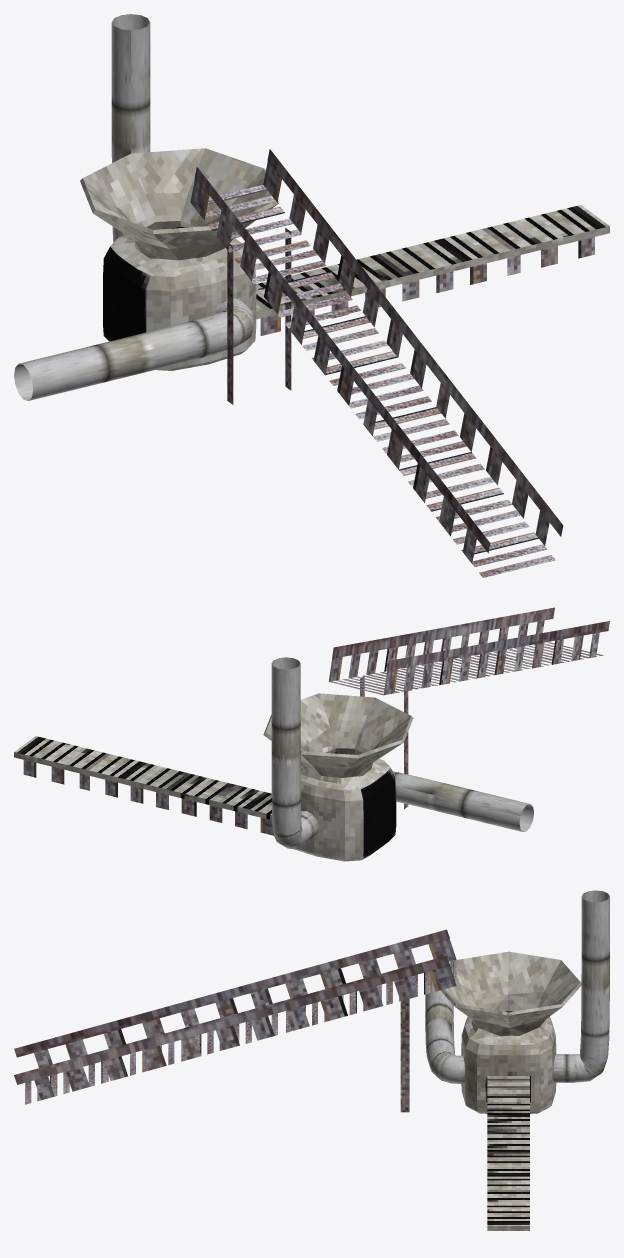
File: maquinaria.fbx
3 views of the same model, one above another, from view 1: azimuth 30°, elevation 25°; view 2: azimuth 150°, elevation 25°; view 3: azimuth 270°, elevation 25° (orthographic). The views are drawn at different scales.
Parts seen in each view (by area): view 1: Cube, Cube.004, Plane.001, Plane.003; view 2: Cube, Cube.004, Plane.001, Plane.003; view 3: Cube.004, Cube, Plane.001.
Part boxes in pixels (box(x1,y1,x2,y2)): Cube: box(80, 148, 609, 370); Cube.004: box(190, 149, 563, 577); Plane.001: box(14, 14, 254, 400); Plane.003: box(260, 237, 594, 335); Cube: box(14, 693, 413, 861); Cube.004: box(328, 607, 609, 809); Plane.001: box(271, 657, 533, 848); Plane.003: box(23, 760, 273, 835); Cube.004: box(14, 929, 456, 1112); Cube: box(440, 951, 581, 1230); Plane.001: box(425, 890, 609, 1083).
Size of the model in its own units: 1111 by 478 by 1257.
3 materials, 3 textured.
